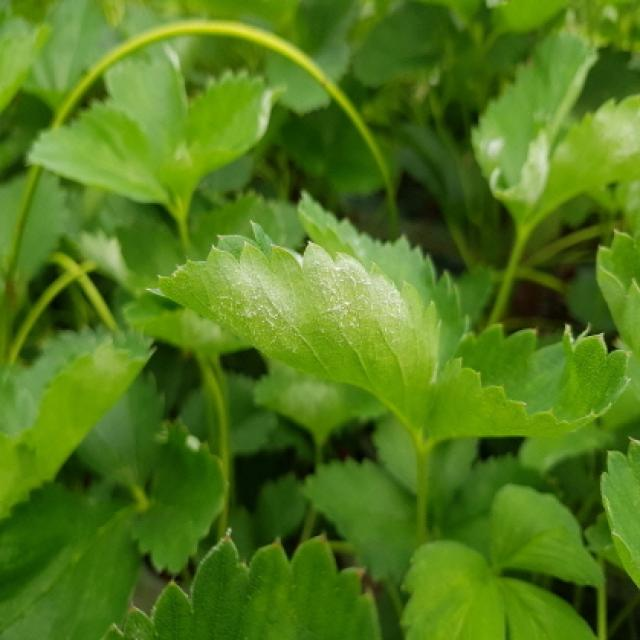Powdery Mildew Leaf: (143, 218, 443, 446), (472, 29, 600, 226)
